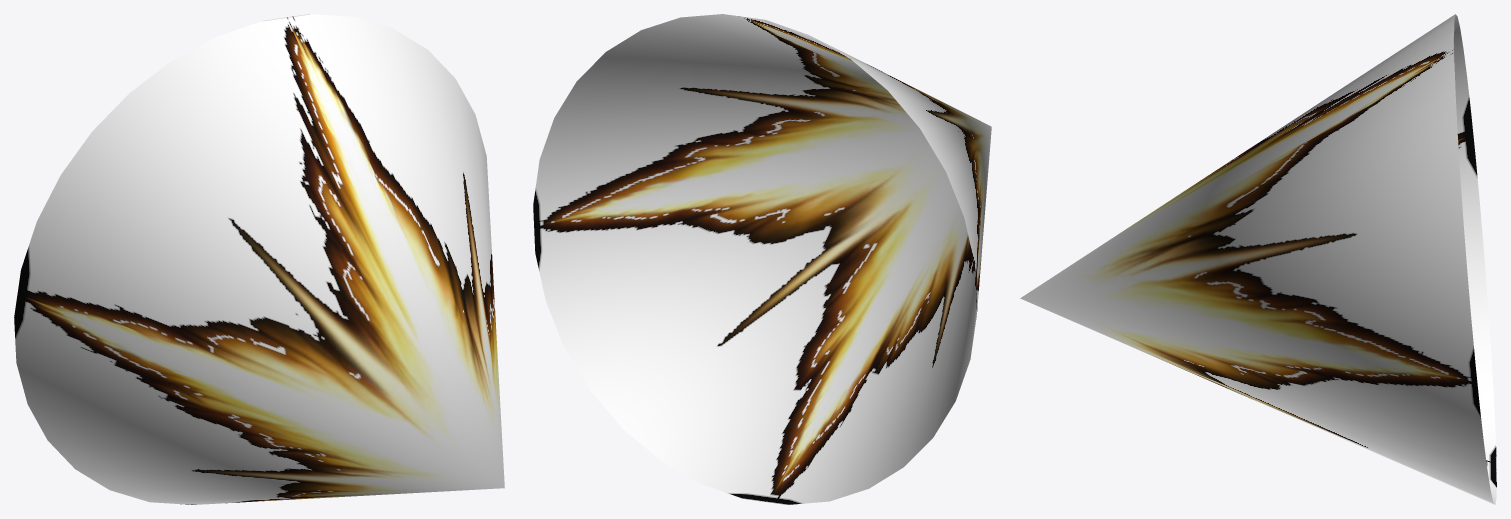
The model's file is muzzleFlash.fbx.
The picture shows the model from 3 angles, left to right: view 1: azimuth 30°, elevation 25°; view 2: azimuth 150°, elevation 25°; view 3: azimuth 270°, elevation 25°; orthographic projection. The views are drawn at different scales.
Visible parts, largest first — view 1: Cone; view 2: Cone; view 3: Cone.
Part boxes in pixels (x1,y1,x2,y2): Cone: (14,14,504,504); Cone: (533,14,991,504); Cone: (1020,14,1496,504).
Bounding box in the file's own units: 200 × 199 × 193.
